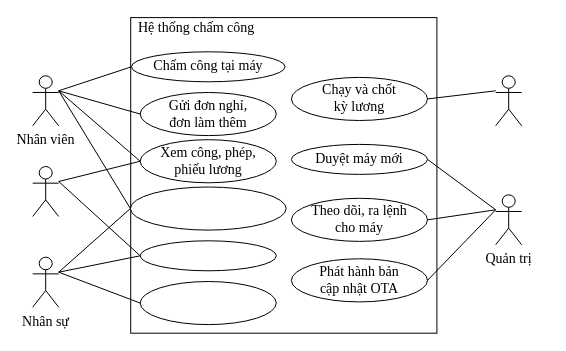
The diagram is 566 pixels wide and 351 high, and some of its shapes have lost their labels. The box of each missing label's shape, as (x1, y1, x2, y2) in pixels:
Duyệt đơn: (139, 240, 276, 271)
Kế toán lương: (495, 75, 522, 126)
Quản lý: (32, 166, 59, 216)
Quản lý hồ sơ, ca, bảng công: (139, 280, 276, 325)
Đăng ký khuôn mặt tại máy: (129, 186, 286, 230)
